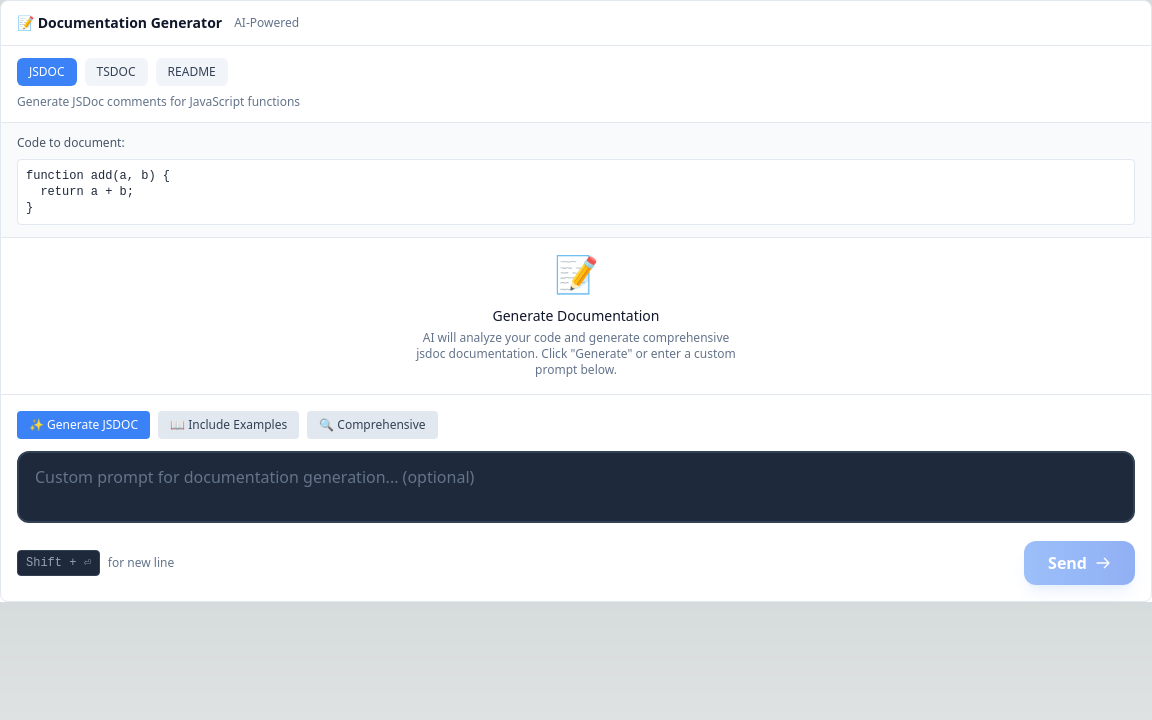
Test: DocumentationGenerator › Documentation Generation › should handle generation errors
Click the button "✨ Generate JSDOC" at [84, 425], box [17, 411, 150, 439]
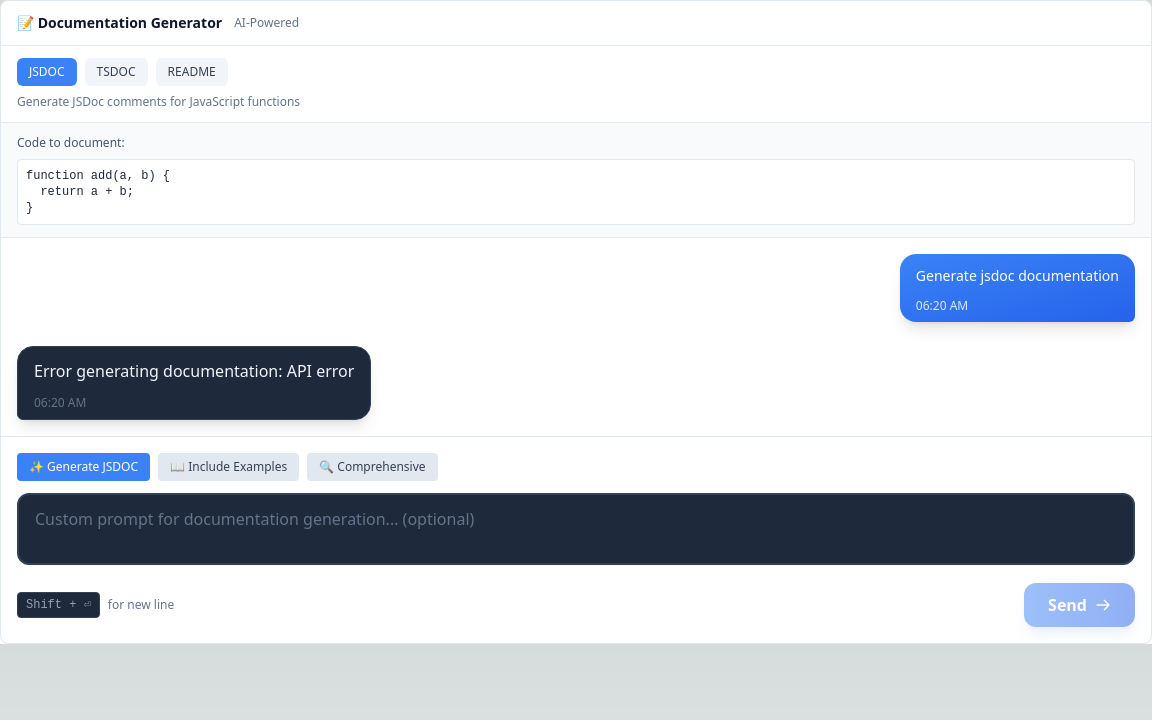
Now the text "Error generating documentation: API error" is shown, box [34, 359, 354, 383]
